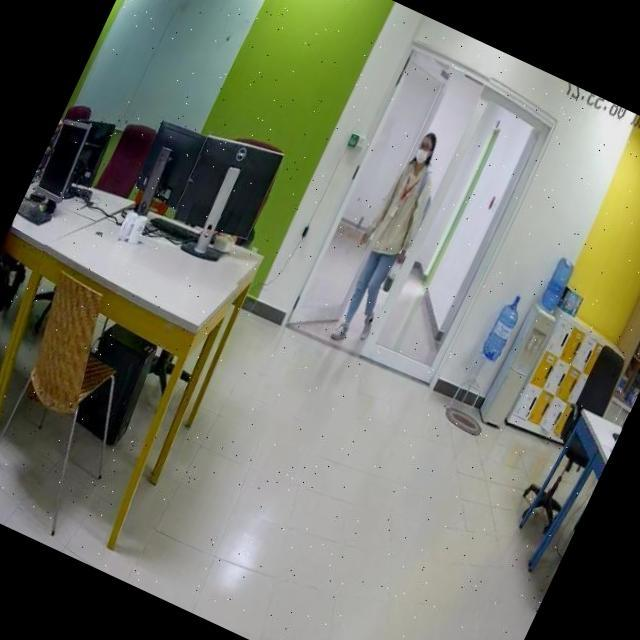person: (324, 129, 458, 354)
